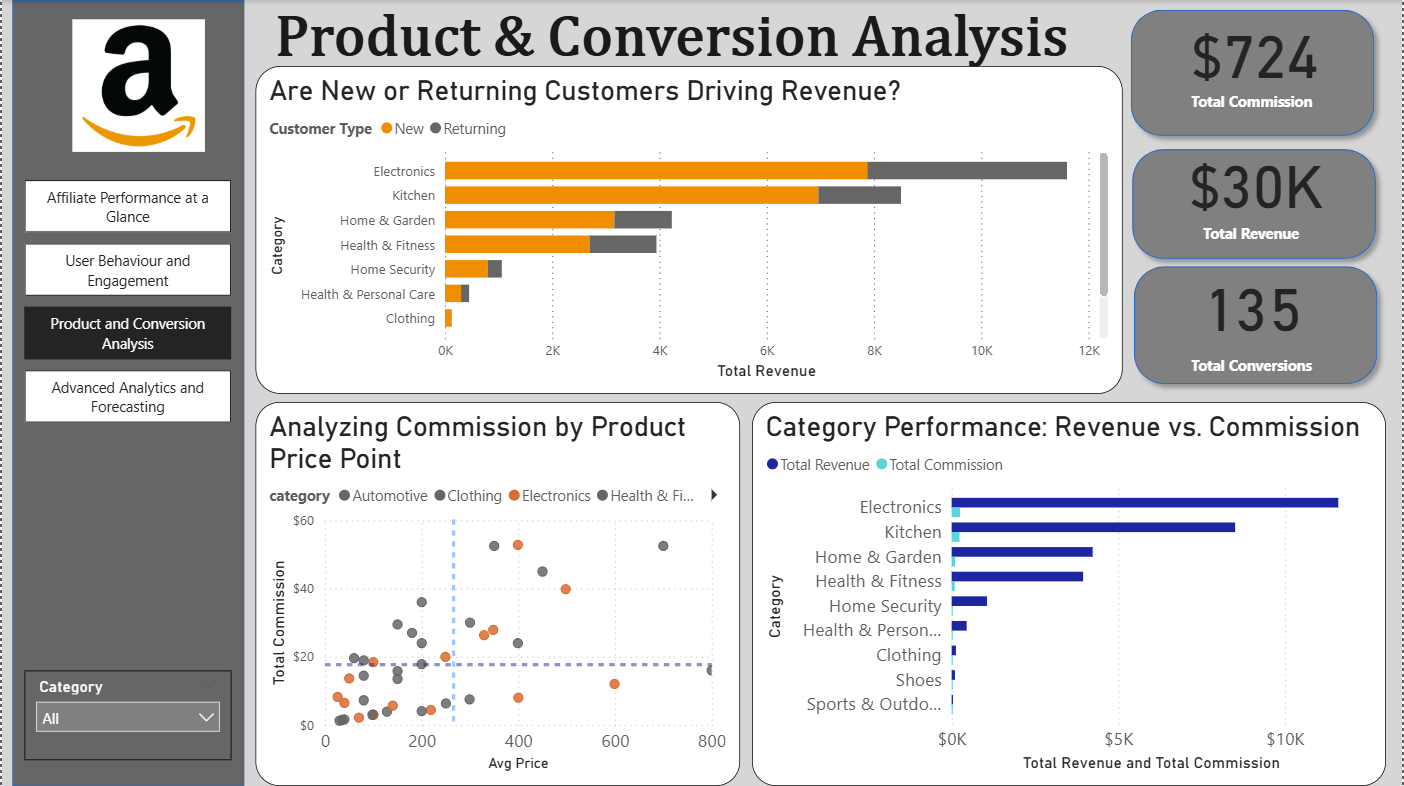

Layout of this report page (visuals, bound fields, positions):
{"tool":"powerbi","page":{"name":"Product and Conversion Analysis","canvas":[1280,720],"ordinal":2},"visuals":[{"type":"textbox","box":[101.1,0,462.6,121.6],"z":0},{"type":"card","fields":{"Values":["_Key Measures.Total_Commission"]},"box":[1057.9,11.1,206.8,176.8],"z":1000},{"type":"card","fields":{"Values":["_Key Measures.Total_Revenue"]},"box":[844.7,11.1,202.1,176.8],"z":2000},{"type":"card","fields":{"Values":["_Key Measures.Total_Conversions"]},"box":[639.5,11.1,194.2,176.8],"z":3000},{"type":"image","box":[10,11.7,91.7,86.7],"z":4000},{"type":"clusteredBarChart","title":"Category Performance: Revenue vs. Commission","fields":{"Y":["_Key Measures.Total_Revenue","_Key Measures.Total_Commission"],"Category":["Products.category"]},"box":[9.5,121.6,617.4,300],"z":5000},{"type":"scatterChart","title":"Analyzing Commission by Product Price Point","fields":{"Category":["Products.product_title"],"X":["_Key Measures.Avg_Price"],"Y":["_Key Measures.Total_Commission"],"Series":["Products.category"]},"box":[639.5,429.5,625.3,279.5],"z":6000},{"type":"treemap","title":"Which Categories Contribute the Most to Revenue?","fields":{"Group":["Products.category"],"Values":["_Key Measures.Total_Revenue"]},"box":[639.5,198.9,625.3,217.9],"z":7000},{"type":"barChart","title":"Are New or Returning Customers Driving Revenue?","fields":{"Category":["Products.category"],"Y":["_Key Measures.Total_Revenue"],"Series":["Conversions.customer_type"]},"box":[9,429,617,279],"z":8000},{"type":"slicer","fields":{"Values":["Products.category"]},"box":[455.7,55.7,171.4,61.4],"z":9000}]}

Visuals, with their boxes on the page's 1280x720 design canvas (x1, y1, x2, y2). These are canvas units, not pixel positions in the 1404x786 screenshot, which may show the page scaled, cropped or inside an application window:
textbox: x1=101 y1=0 x2=564 y2=122
card - _Key Measures.Total_Commission: x1=1058 y1=11 x2=1265 y2=188
card - _Key Measures.Total_Revenue: x1=845 y1=11 x2=1047 y2=188
card - _Key Measures.Total_Conversions: x1=640 y1=11 x2=834 y2=188
image: x1=10 y1=12 x2=102 y2=98
"Category Performance: Revenue vs. Commission" clusteredBarChart: x1=10 y1=122 x2=627 y2=422
"Analyzing Commission by Product Price Point" scatterChart: x1=640 y1=430 x2=1265 y2=709
"Which Categories Contribute the Most to Revenue?" treemap: x1=640 y1=199 x2=1265 y2=417
"Are New or Returning Customers Driving Revenue?" barChart: x1=9 y1=429 x2=626 y2=708
slicer - Products.category: x1=456 y1=56 x2=627 y2=117
